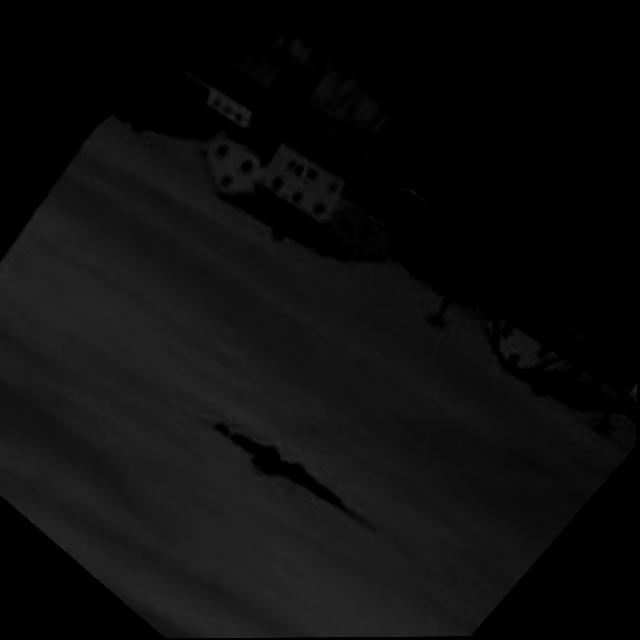aeroplane: (161, 352, 408, 585)
